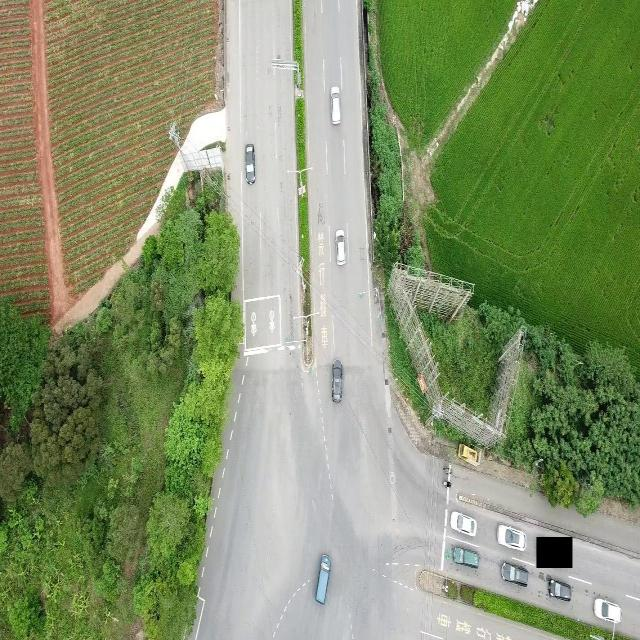bike: (442, 475, 453, 493), (442, 463, 452, 475)
car: (315, 548, 333, 609), (496, 523, 526, 551), (594, 597, 622, 623), (450, 510, 477, 536), (452, 544, 479, 568), (501, 561, 527, 585), (548, 577, 571, 601), (332, 359, 342, 402), (245, 144, 255, 184), (335, 229, 346, 265), (330, 86, 340, 124)
